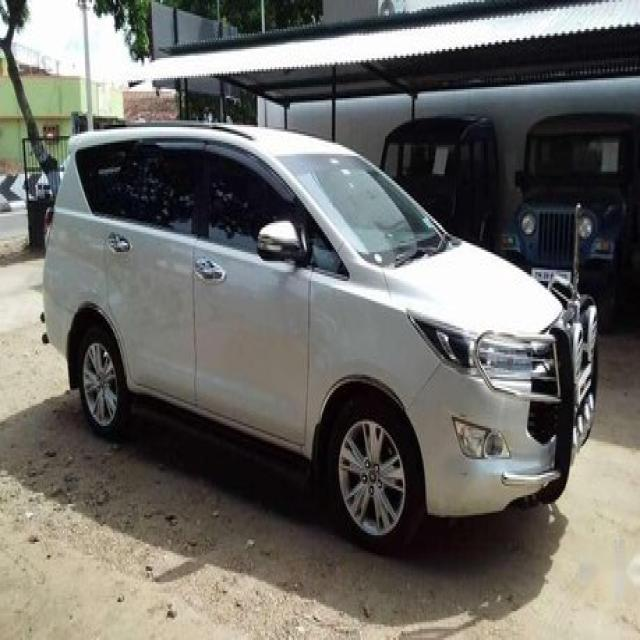light_vehicle: (40, 121, 597, 556)
